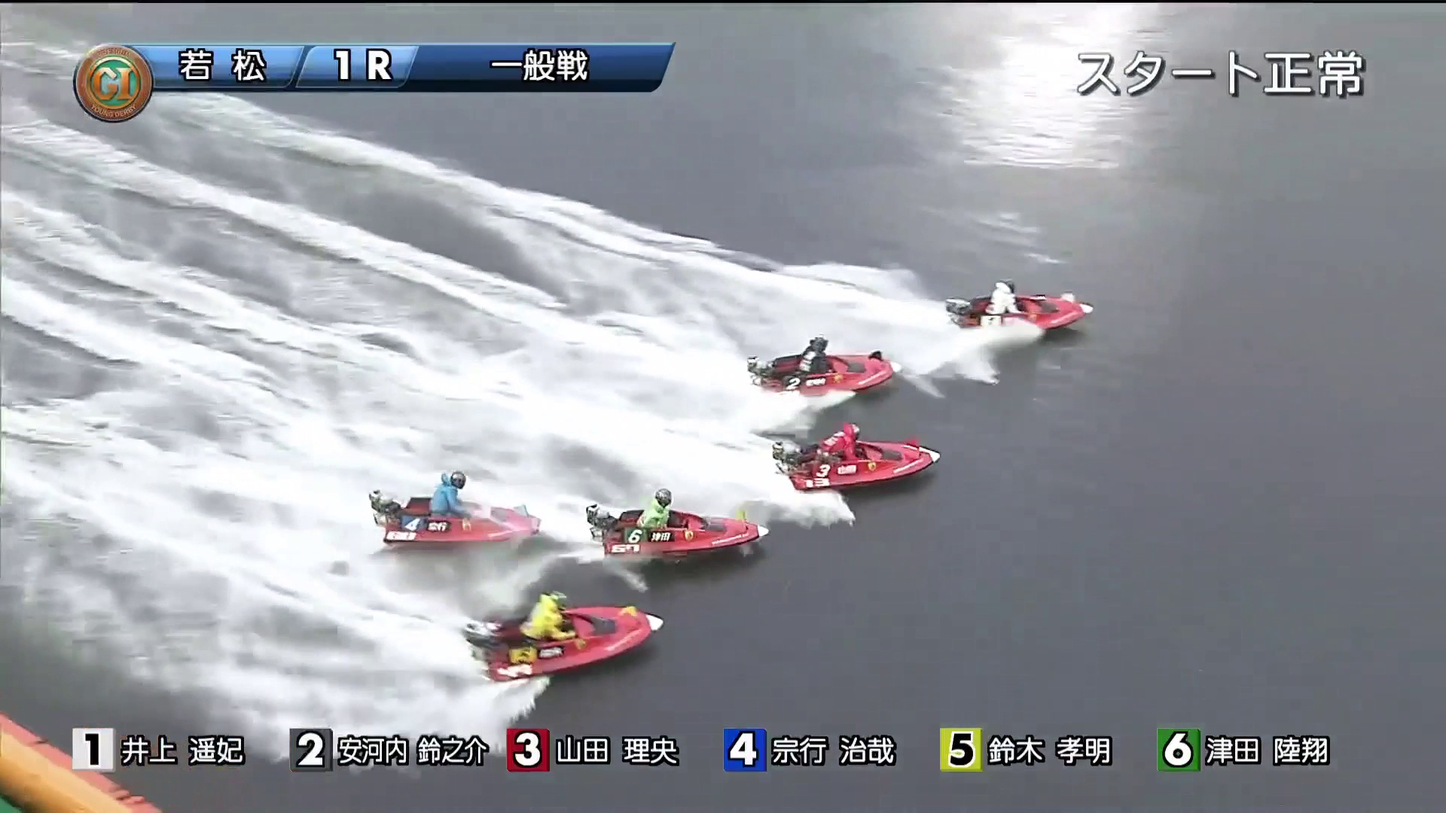１号艇: (973, 283, 1110, 336)
２号艇: (760, 336, 888, 396)
３号艇: (804, 432, 945, 478)
４号艇: (612, 497, 732, 562)
５号艇: (384, 498, 507, 553)
６号艇: (535, 619, 635, 676)
